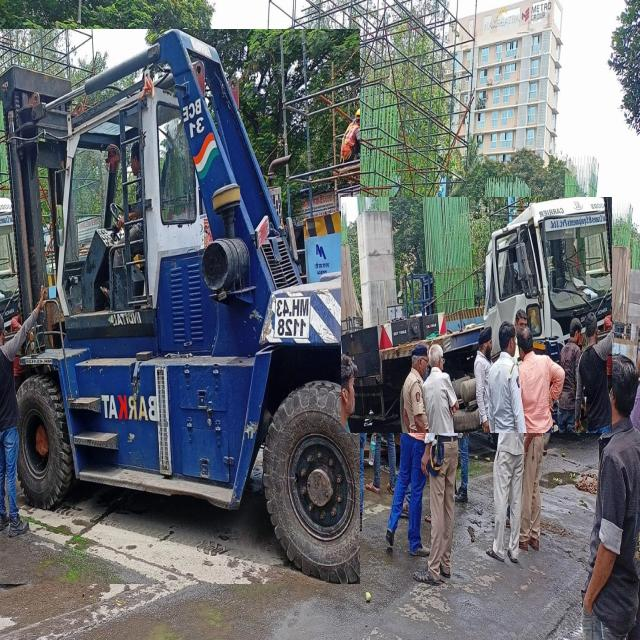truck: (0, 29, 360, 584), (341, 198, 612, 433)
